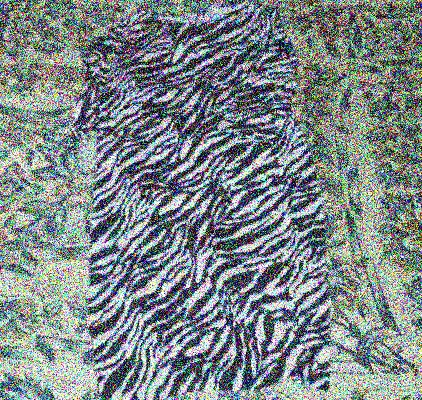Dress: (71, 12, 339, 392)
